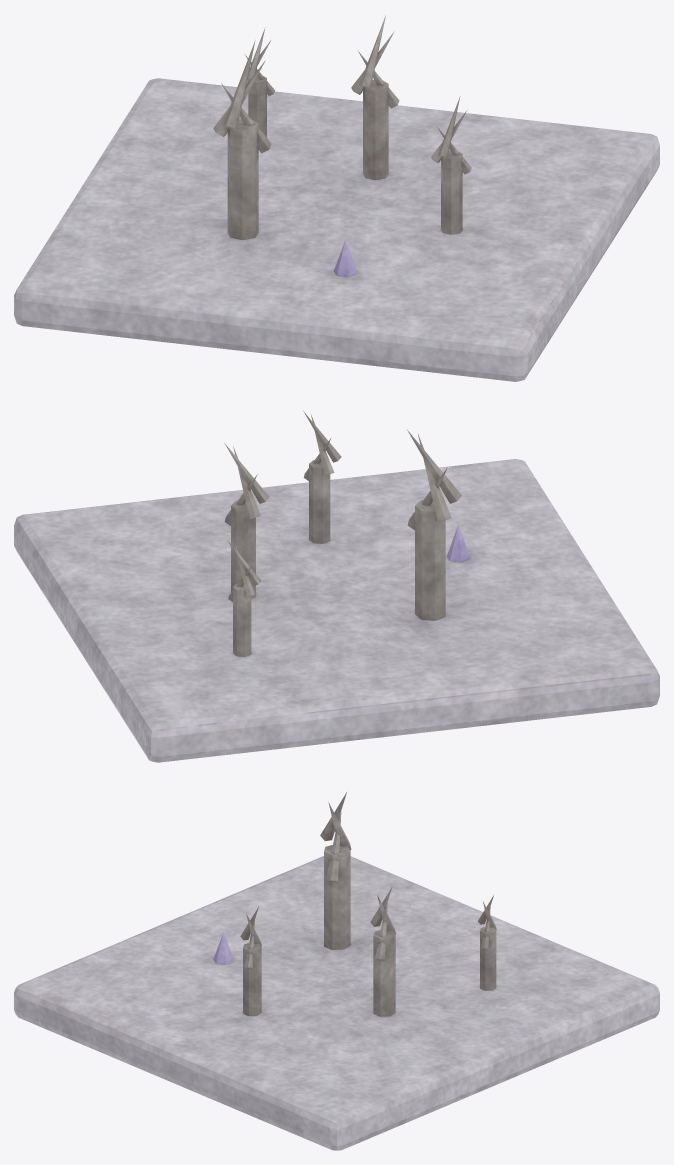
File: vhorren_forest.glb
The picture shows the model from 3 angles, top to bottom: view 1: azimuth 30°, elevation 25°; view 2: azimuth 150°, elevation 25°; view 3: azimuth 270°, elevation 25°; orthographic projection. The views are drawn at different scales.
Visible parts, largest first — view 1: dilek; view 2: dilek; view 3: dilek.
Part boxes in pixels (x1=…): dilek: x1=14, y1=15, x2=659, y2=381; dilek: x1=14, y1=411, x2=659, y2=762; dilek: x1=14, y1=792, x2=659, y2=1150.
Bounding box in the file's own units: 2.42 × 0.8065 × 2.42.
Materials: 1 (1 with a texture image).
